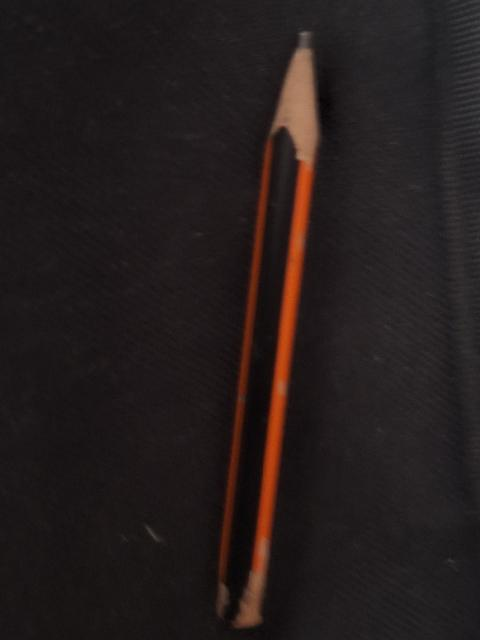writing_tool: (205, 28, 334, 624)
